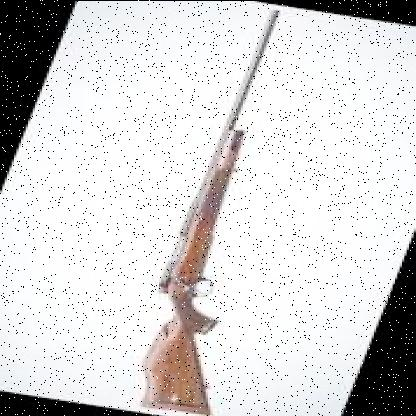rifle: (100, 8, 364, 416)
